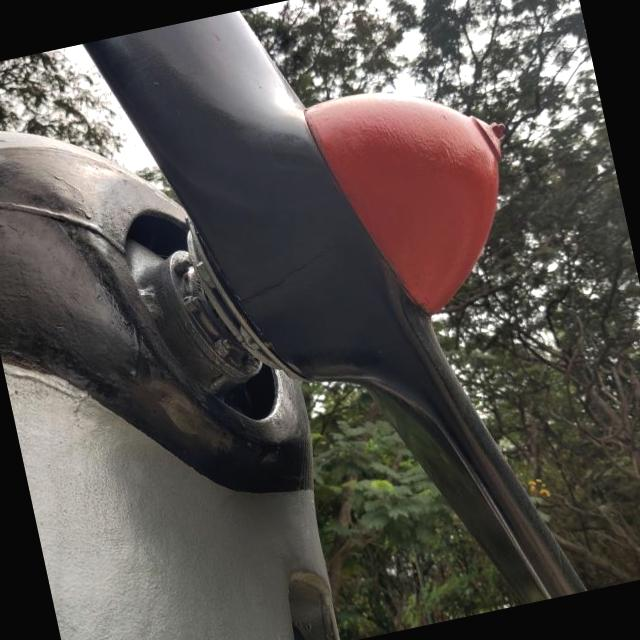crack: (222, 232, 360, 316)
